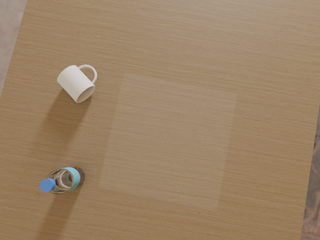bottle: (40, 167, 85, 194)
cup: (57, 65, 97, 103)
